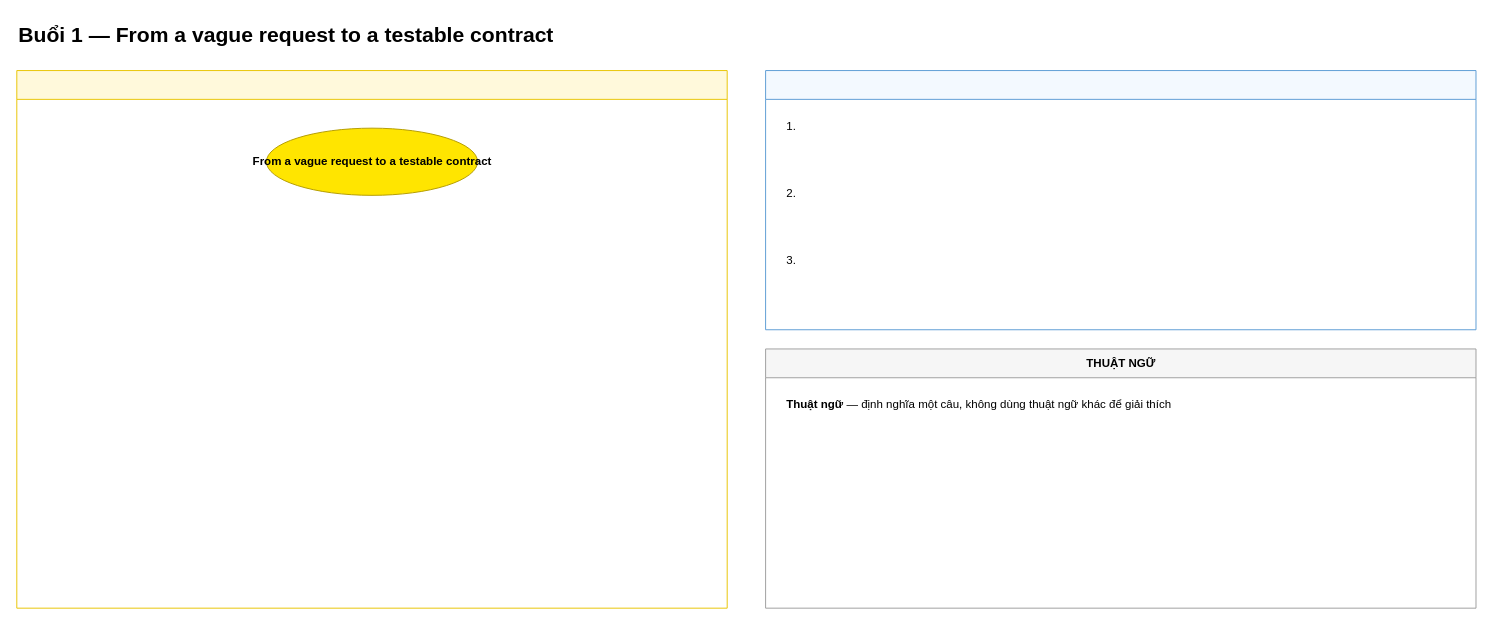
Image size: 1493x625. Some labels were removed from this diagram. Each missing label, with the box of its shape:
KEY TAKEAWAY — ba điều phải nhớ: (765, 70, 1476, 330)
MINDMAP: (16, 70, 727, 608)
